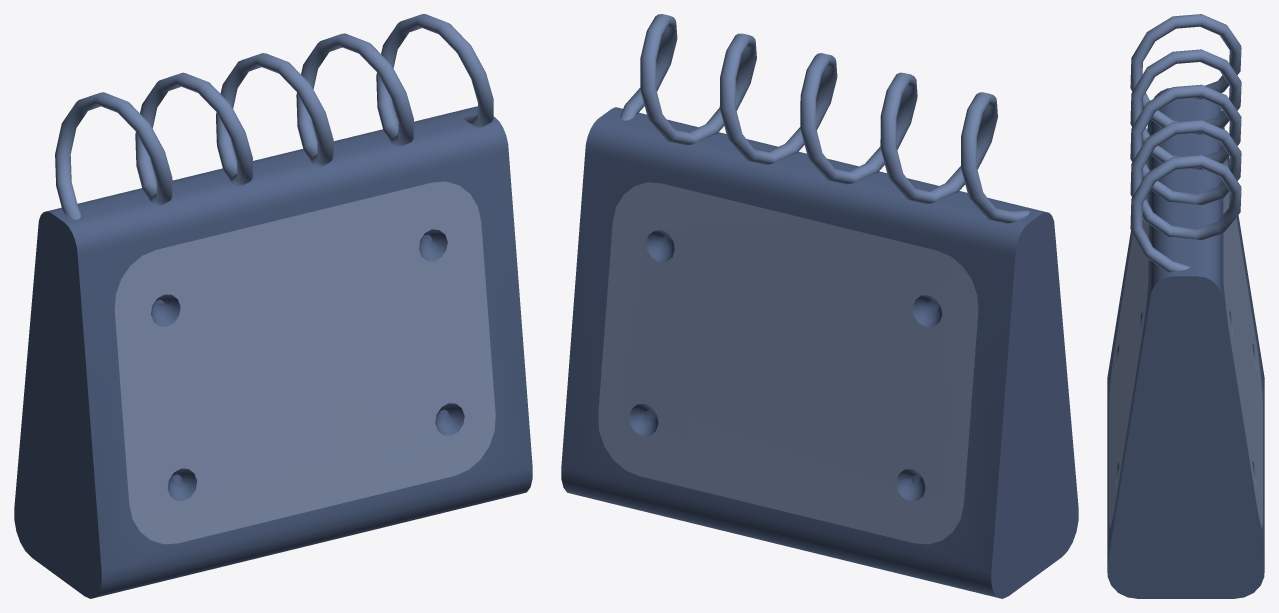
Rendered from Concrete Wall.fbx.
The picture shows the model from 3 angles, left to right: view 1: azimuth 30°, elevation 25°; view 2: azimuth 150°, elevation 25°; view 3: azimuth 270°, elevation 25°; orthographic projection. The views are drawn at different scales.
Parts seen in each view (by area): view 1: Concrete Wall; view 2: Concrete Wall; view 3: Concrete Wall.
Part boxes in pixels (bbox=[...]): Concrete Wall: bbox=[14, 14, 532, 598]; Concrete Wall: bbox=[561, 14, 1078, 598]; Concrete Wall: bbox=[1107, 14, 1264, 598].
Size of the model in its own units: 3.81 by 3.94 by 1.34.
